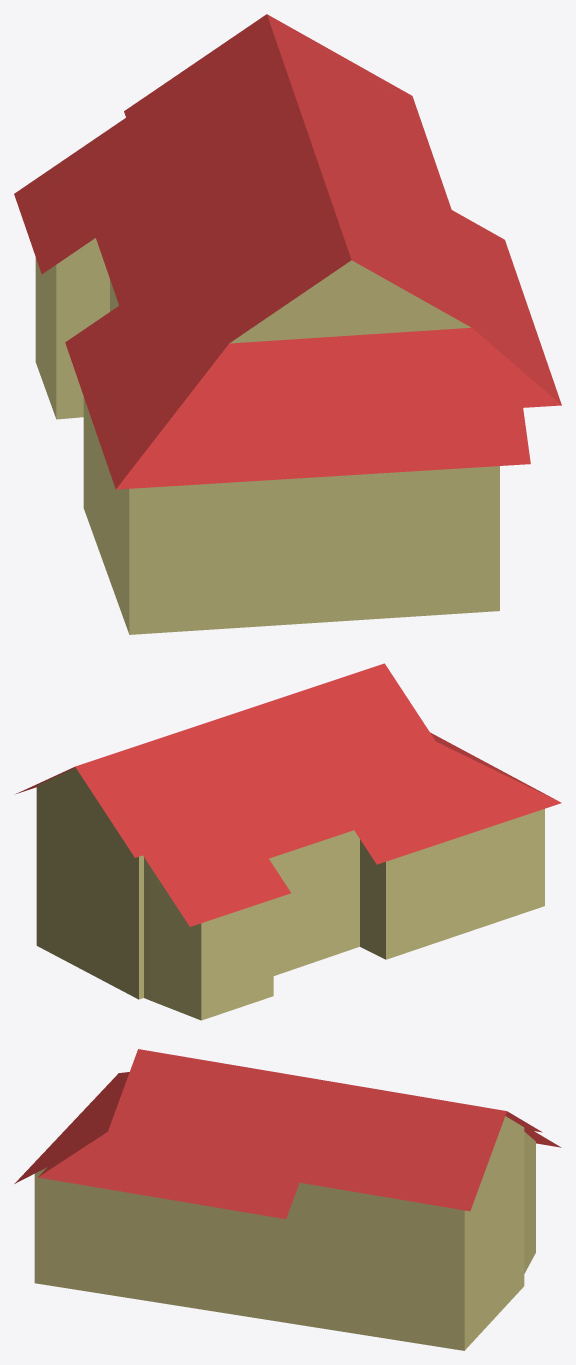
3 renders of one model, top to bottom at view 1: azimuth 30°, elevation 25°; view 2: azimuth 150°, elevation 25°; view 3: azimuth 270°, elevation 25°, orthographic. The views are drawn at different scales.
Bounding box in the file's own units: 29.1 × 36.73 × 15.58.
